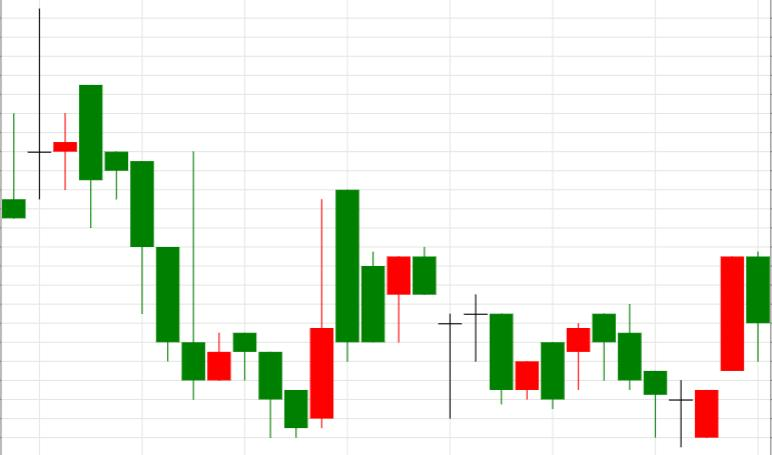inverse_hammer_rise: (79, 85, 206, 399)
